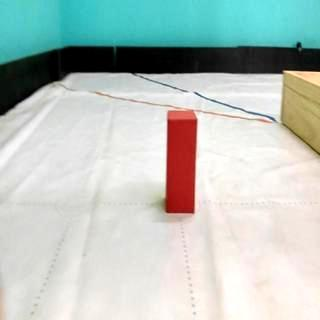redbox: (165, 109, 198, 214)
